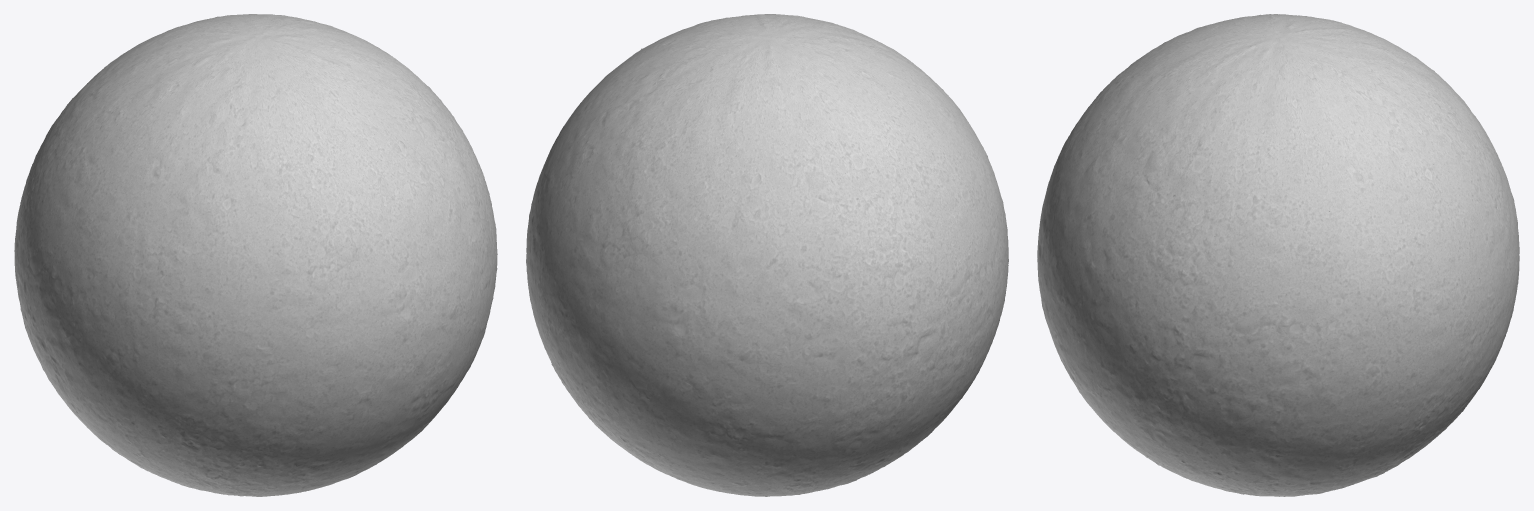
The model's file is macro_flour_2k.gltf.
The picture shows the model from 3 angles, left to right: view 1: azimuth 30°, elevation 25°; view 2: azimuth 150°, elevation 25°; view 3: azimuth 270°, elevation 25°; orthographic projection.
Visible parts, largest first — view 1: sphere_gltf; view 2: sphere_gltf; view 3: sphere_gltf.
Part boxes in pixels (bbox=[...]): sphere_gltf: bbox=[14, 14, 497, 496]; sphere_gltf: bbox=[526, 14, 1008, 496]; sphere_gltf: bbox=[1037, 14, 1519, 496].
Bounding box in the file's own units: 0.3001 × 0.2999 × 0.2997.
1 material, 1 textured.
